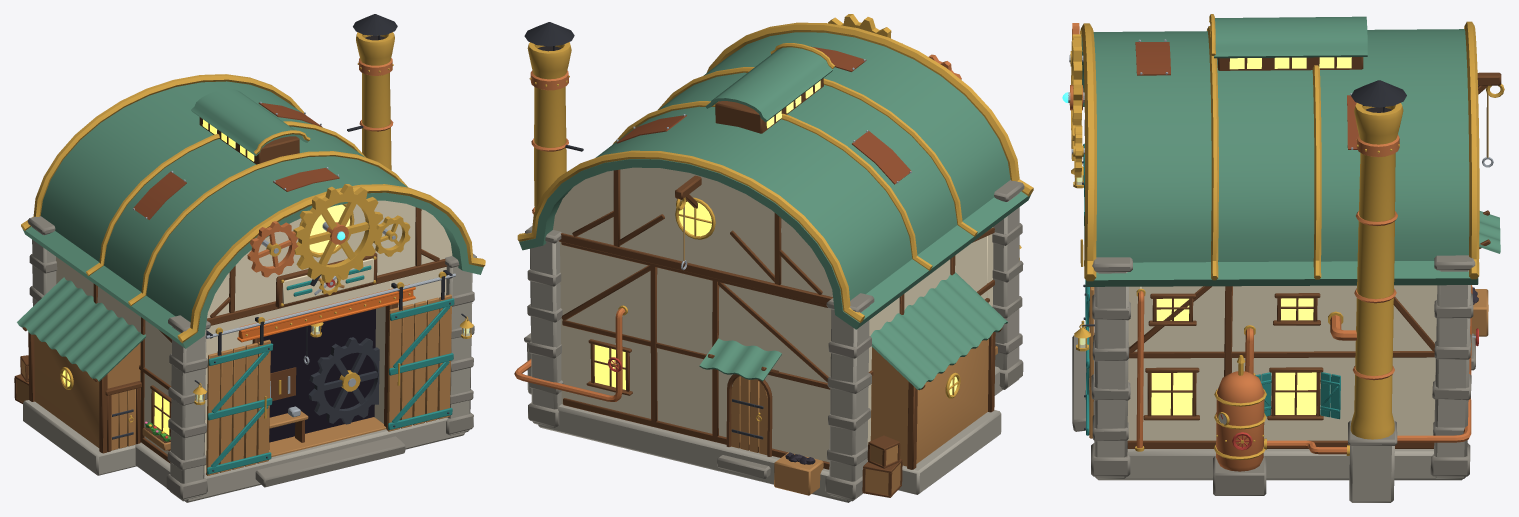
The model's file is bld_workshop.glb.
The picture shows the model from 3 angles, left to right: view 1: azimuth 30°, elevation 25°; view 2: azimuth 150°, elevation 25°; view 3: azimuth 270°, elevation 25°; orthographic projection. The views are drawn at different scales.
Parts seen in each view (by area): view 1: Workshop; view 2: Workshop; view 3: Workshop.
Boxes of the visible parts, x1=… form: Workshop: x1=14, y1=14, x2=485, y2=502; Workshop: x1=514, y1=14, x2=1033, y2=502; Workshop: x1=1062, y1=14, x2=1504, y2=502.
Size of what is drawn, in the model's own units: 12.32 by 10.74 by 10.39.
